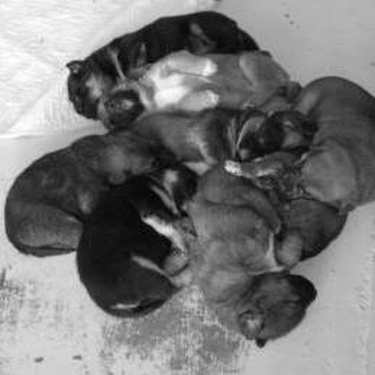dog: (188, 158, 322, 349), (1, 129, 172, 261), (66, 9, 260, 121), (72, 171, 195, 317), (219, 144, 351, 267), (95, 52, 286, 132), (272, 73, 370, 219), (129, 110, 269, 171), (251, 107, 318, 156)
